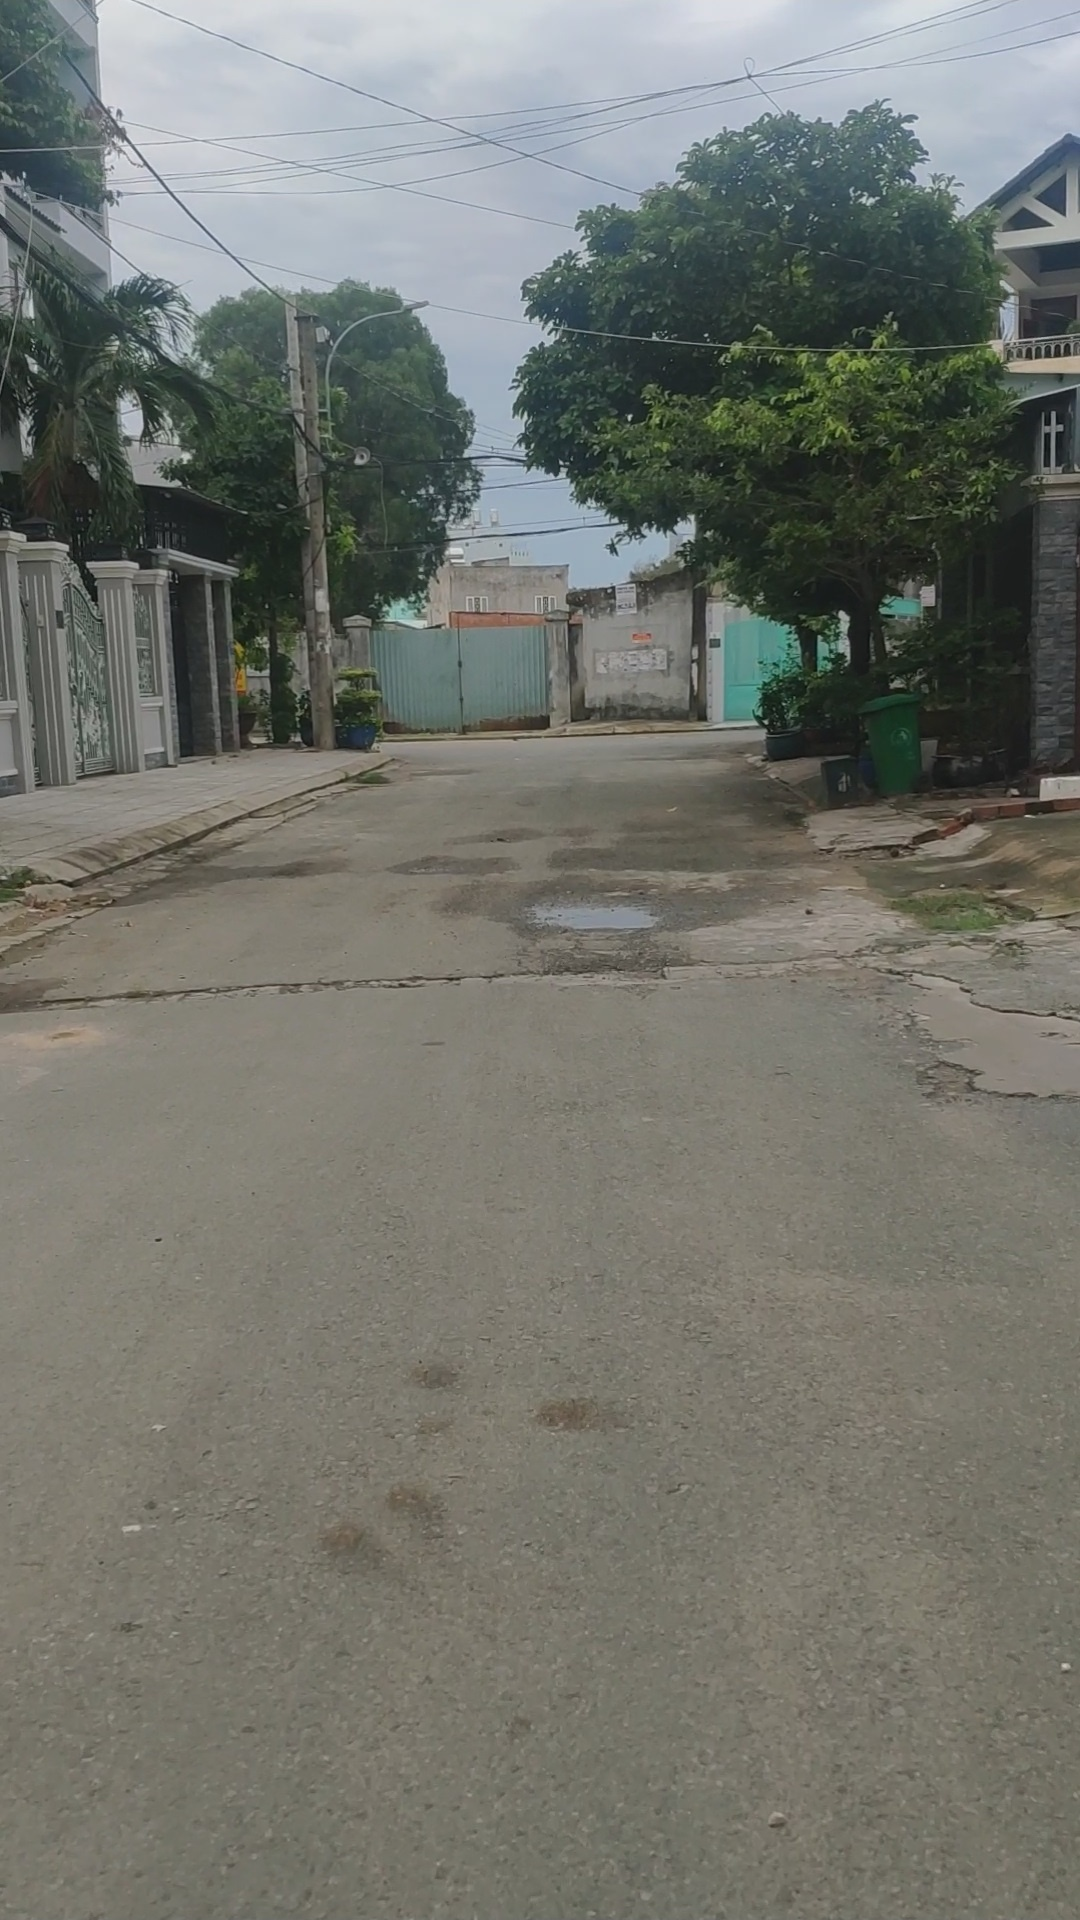hole: (508, 895, 676, 938), (905, 1054, 996, 1109), (535, 959, 674, 989), (836, 840, 920, 866)
